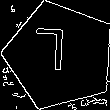L_S: (42, 30, 77, 82)
